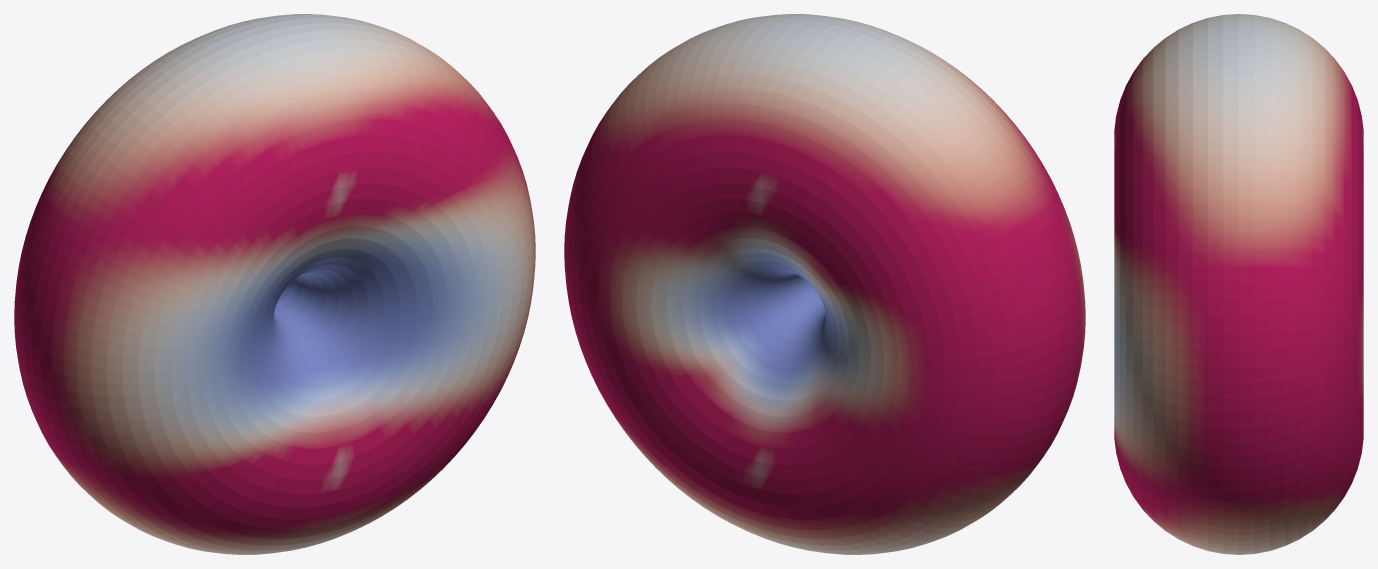
3 renders of one model, left to right at view 1: azimuth 30°, elevation 25°; view 2: azimuth 150°, elevation 25°; view 3: azimuth 270°, elevation 25°, orthographic. The views are drawn at different scales.
Parts seen in each view (by area): view 1: world; view 2: world; view 3: world.
Boxes of the visible parts, x1,y1,x2,y2 form: world: (14, 14, 535, 554); world: (564, 14, 1085, 554); world: (1114, 14, 1363, 554).
Bounding box in the file's own units: 21.07 × 21.07 × 9.71.
